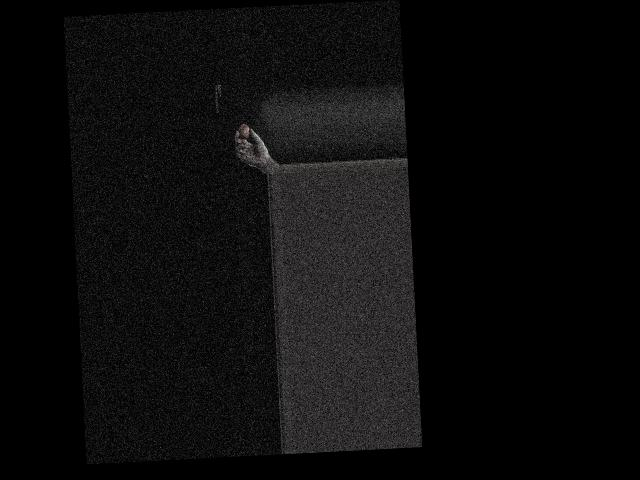egg: (238, 124, 250, 140)
